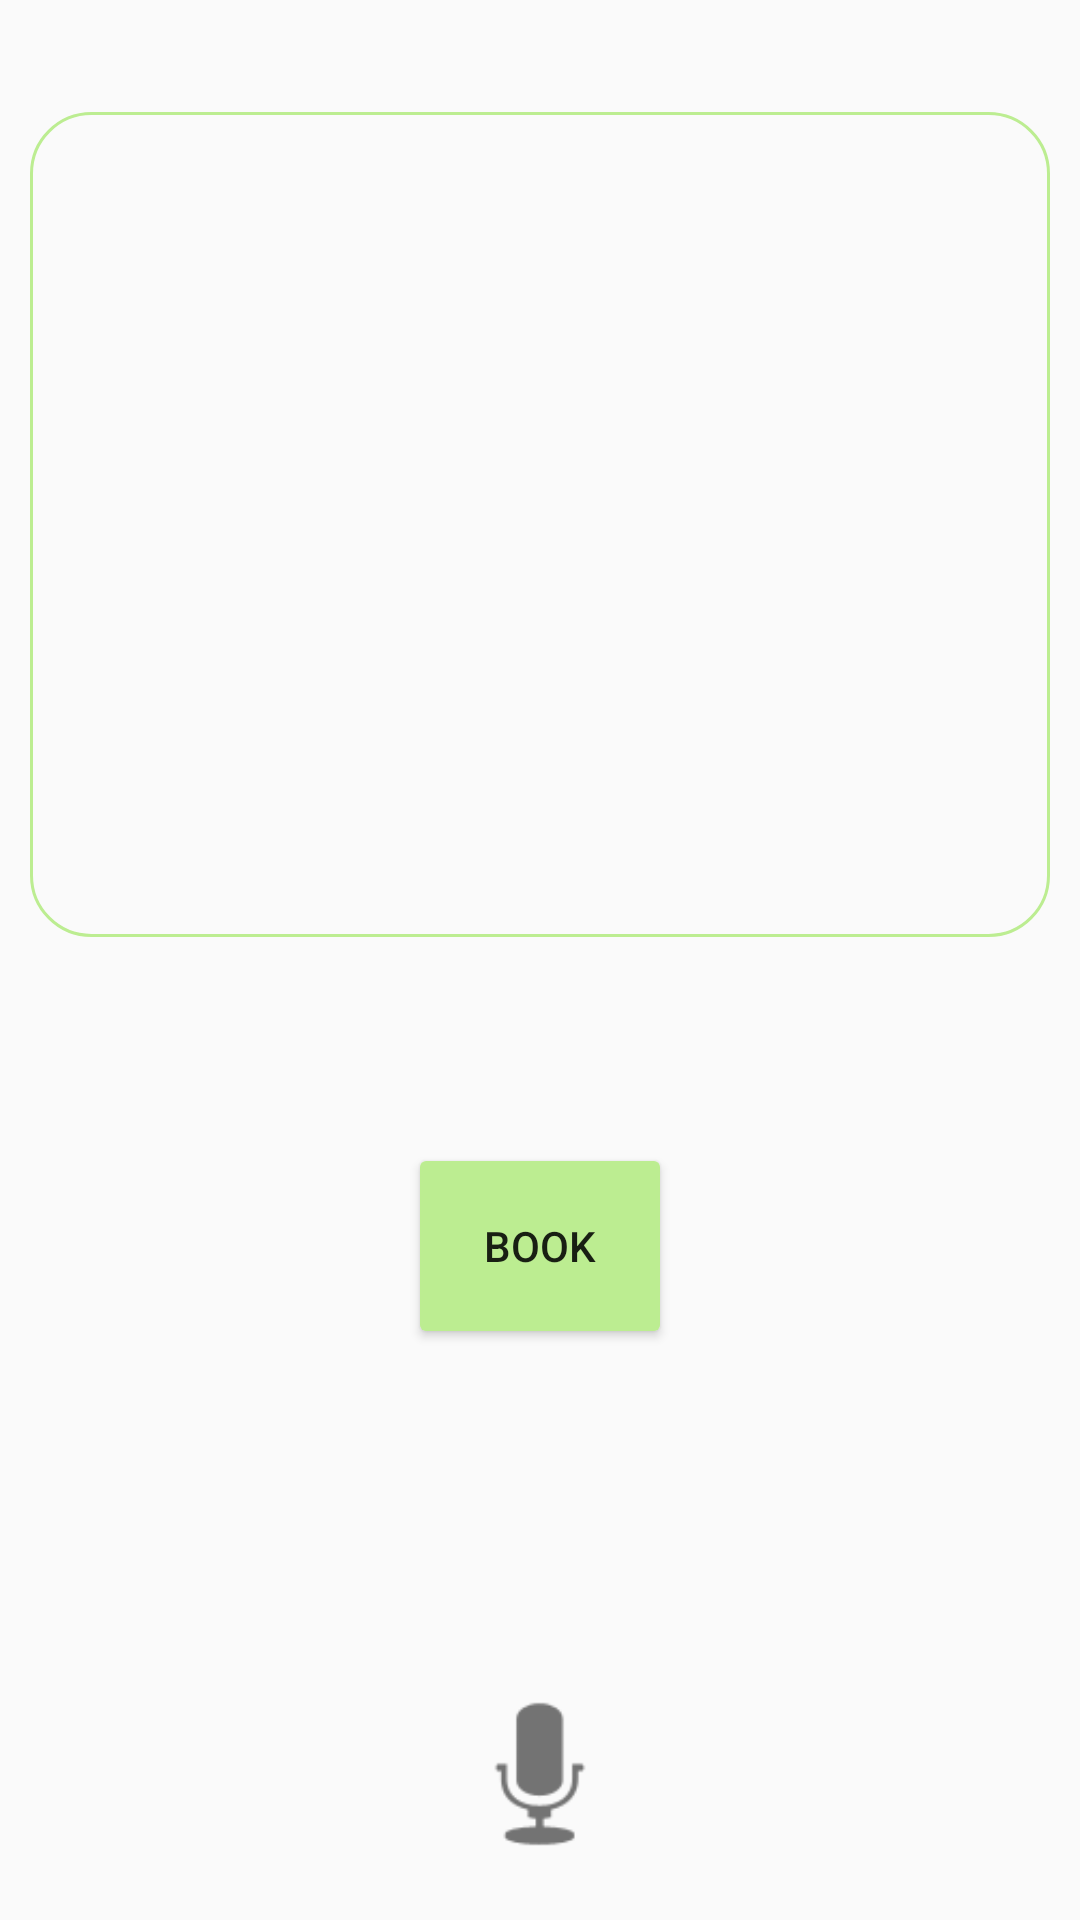

Where to tap for icons on this 1080x1920 app screen, as (x=x, y=y):
speak now: (x=540, y=1774)
